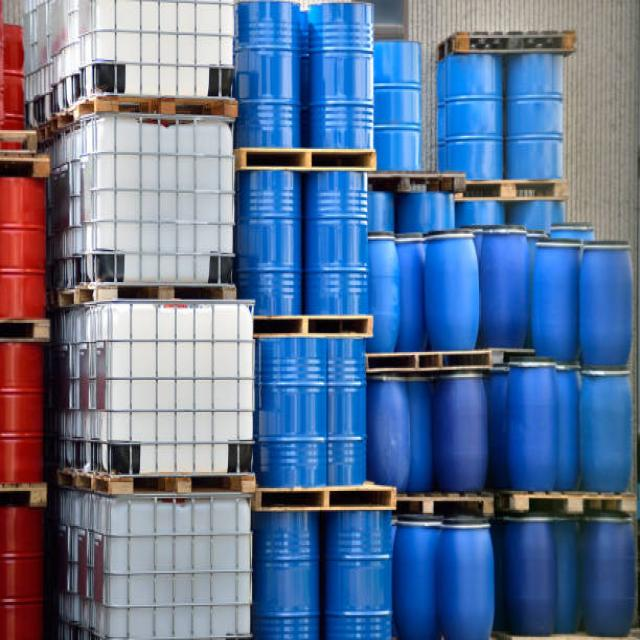Wooden-Pallets: (96, 88, 238, 128), (256, 482, 398, 514), (235, 142, 380, 172), (93, 278, 237, 306), (454, 172, 569, 206), (450, 30, 579, 59), (510, 488, 638, 517), (105, 474, 255, 496), (365, 349, 496, 373), (402, 490, 496, 520)
